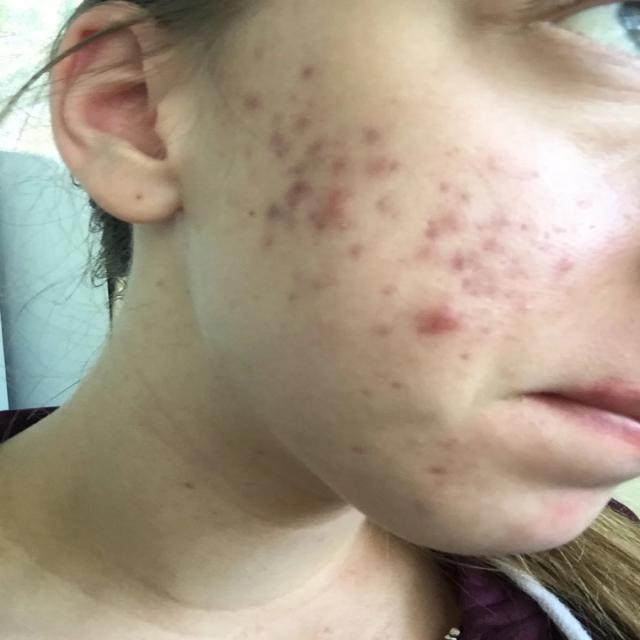Acne: (436, 252, 509, 288), (417, 297, 469, 339), (427, 212, 473, 258), (280, 265, 344, 298), (431, 169, 486, 206), (364, 125, 403, 175), (265, 135, 328, 165), (548, 246, 596, 285), (316, 177, 348, 231), (494, 210, 543, 241), (370, 189, 413, 224), (260, 192, 300, 222), (336, 238, 378, 266), (510, 298, 563, 320), (287, 52, 328, 80), (367, 318, 411, 342), (370, 272, 402, 304), (234, 86, 269, 115), (248, 230, 290, 251)
